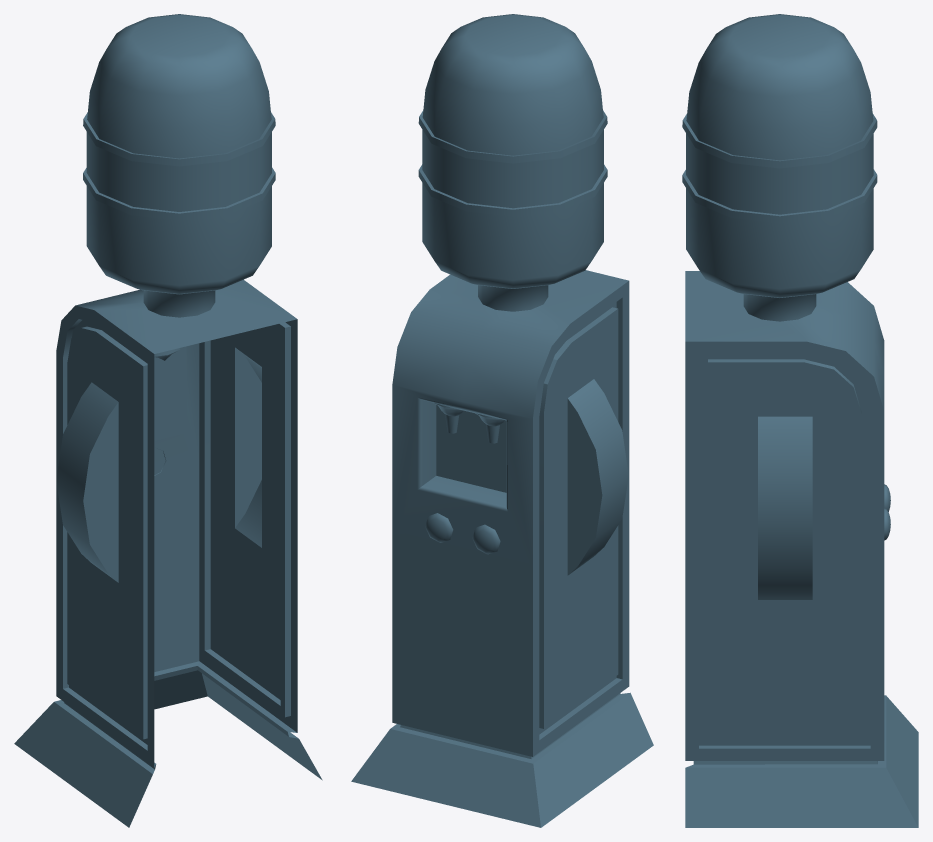
Rendered from Water_cooler.fbx.
The picture shows the model from 3 angles, left to right: view 1: azimuth 30°, elevation 25°; view 2: azimuth 150°, elevation 25°; view 3: azimuth 270°, elevation 25°; orthographic projection. The views are drawn at different scales.
Visible parts, largest first — view 1: Water_cooler; view 2: Water_cooler; view 3: Water_cooler.
Part boxes in pixels (box(x1,y1,x2,y2)): Water_cooler: box(14, 14, 322, 827); Water_cooler: box(351, 14, 653, 827); Water_cooler: box(682, 14, 918, 827).
Size of the model in its own units: 84.95 by 278 by 80.17.
